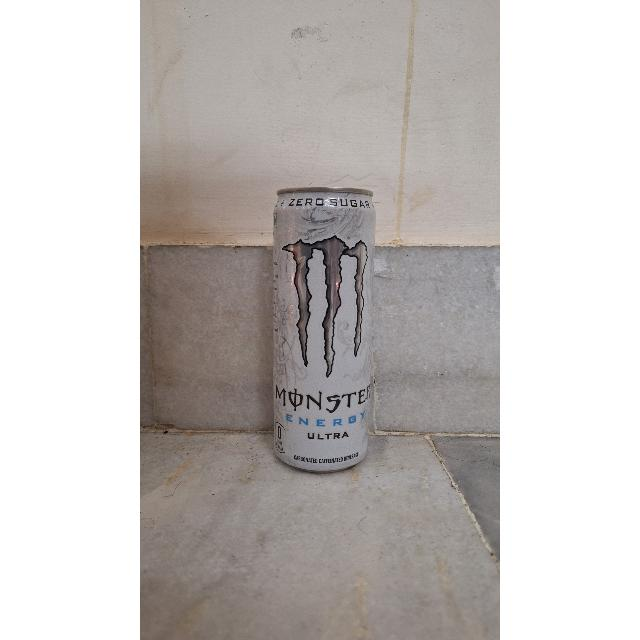White Monster: (260, 172, 382, 492)
